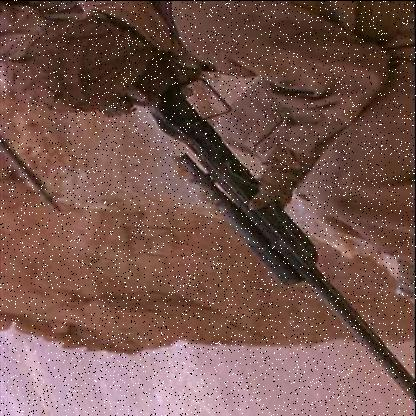rifle: (124, 47, 415, 405)
